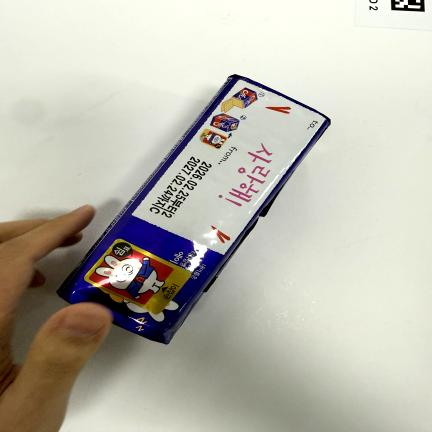cracker_ace: (58, 75, 330, 344)
